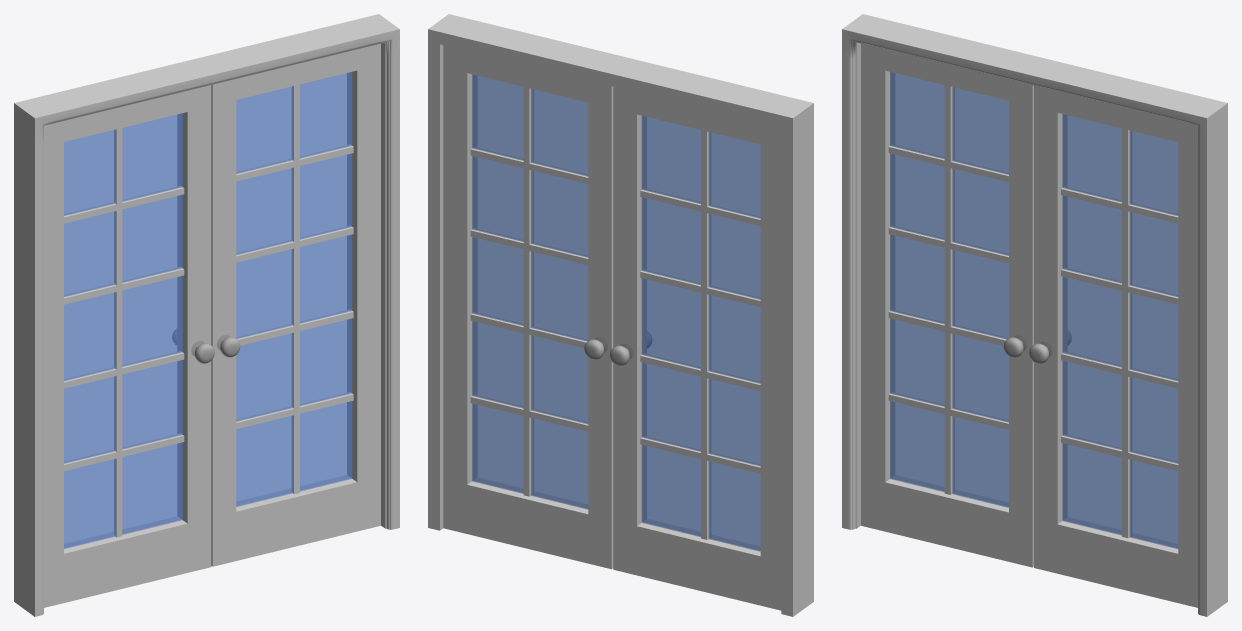
3 renders of one model, left to right at view 1: azimuth 30°, elevation 25°; view 2: azimuth 150°, elevation 25°; view 3: azimuth 330°, elevation 25°, orthographic.
Visible parts, largest first — view 1: DoubleFrenchDoorMullions60x124_DoubleFrenchDoorMullions60x124_D, DoubleFrenchDoorMullions60x124_DoubleFrenchDoorMullions60x1; view 2: DoubleFrenchDoorMullions60x124_DoubleFrenchDoorMullions60x124_D, DoubleFrenchDoorMullions60x124_DoubleFrenchDoorMullions60x1; view 3: DoubleFrenchDoorMullions60x124_DoubleFrenchDoorMullions60x124_D, DoubleFrenchDoorMullions60x124_DoubleFrenchDoorMullions60x1.
Boxes of the visible parts, left/top/right/bottom form: DoubleFrenchDoorMullions60x124_DoubleFrenchDoorMullions60x124_D: left=14, top=14, right=399, bottom=616; DoubleFrenchDoorMullions60x124_DoubleFrenchDoorMullions60x1: left=64, top=72, right=352, bottom=548; DoubleFrenchDoorMullions60x124_DoubleFrenchDoorMullions60x124_D: left=428, top=14, right=813, bottom=616; DoubleFrenchDoorMullions60x124_DoubleFrenchDoorMullions60x1: left=472, top=74, right=760, bottom=551; DoubleFrenchDoorMullions60x124_DoubleFrenchDoorMullions60x124_D: left=842, top=14, right=1227, bottom=616; DoubleFrenchDoorMullions60x124_DoubleFrenchDoorMullions60x1: left=890, top=72, right=1178, bottom=548.
Bounding box in the file's own units: 159 × 207 × 21.74.
